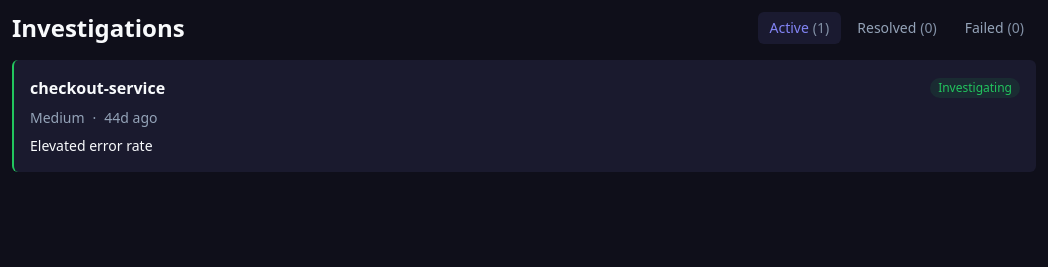
InvestigationListPage — empty group waiting state (FR22) › renders a group-specific waiting state for an empty Resolved group
Check: the link with aria-label "investigation," is shown, box [12,60,1036,172]
Click the tab "Resolved(0)". click: (897, 28)
box: [845,12,949,44]
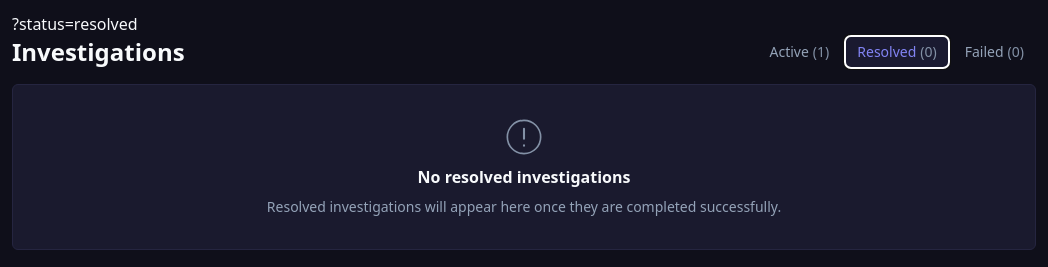
Check: the text "No resolved investigations" is shown, box [418,165,630,189]
